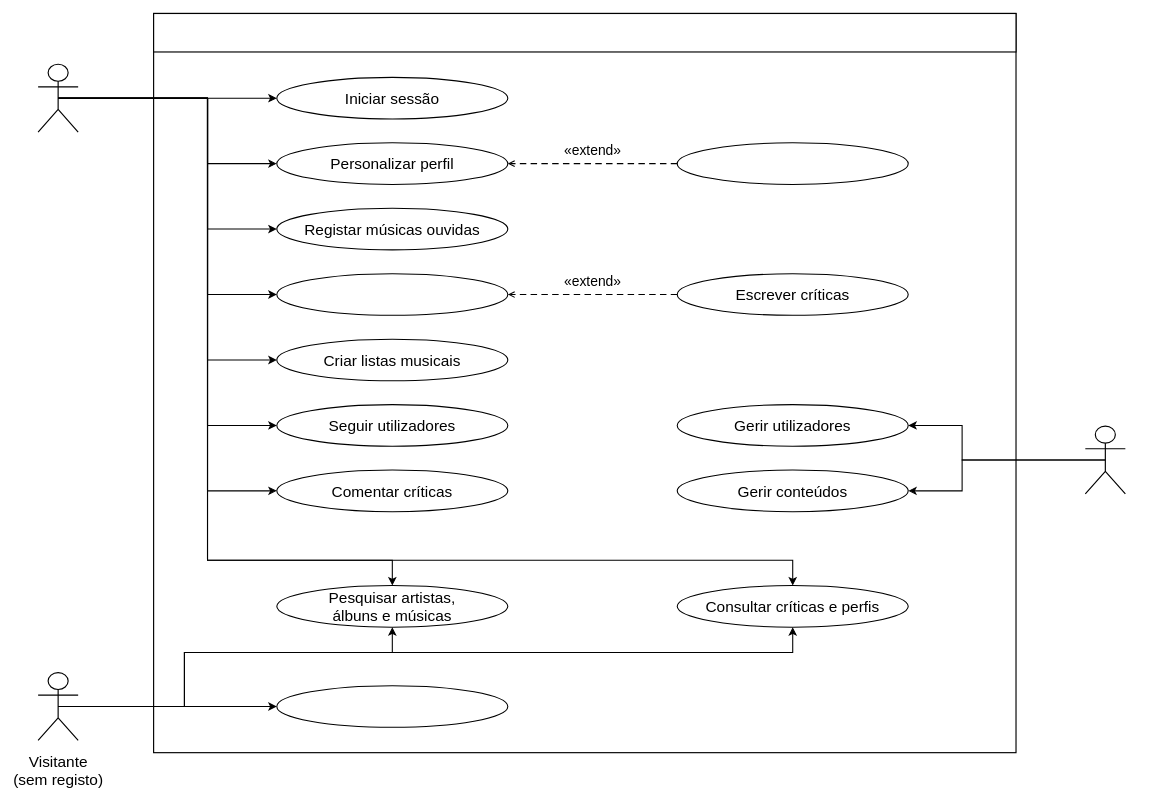
The diagram is 1166 pixels wide and 803 high, and some of its shapes have lost their labels. The shapes that lost their labels are listed below. From the top down, each one's box as (x1, y1, x2, y2) in pixels, then its label:
(153, 13, 1016, 52): Sistema RESONA
(37, 63, 78, 132): Utilizador registado
(676, 142, 908, 185): Escolher e ordenar Top 4
(276, 273, 508, 315): Avaliar músicas e álbuns
(1084, 425, 1126, 494): Administrador
(276, 685, 508, 727): Criar conta
